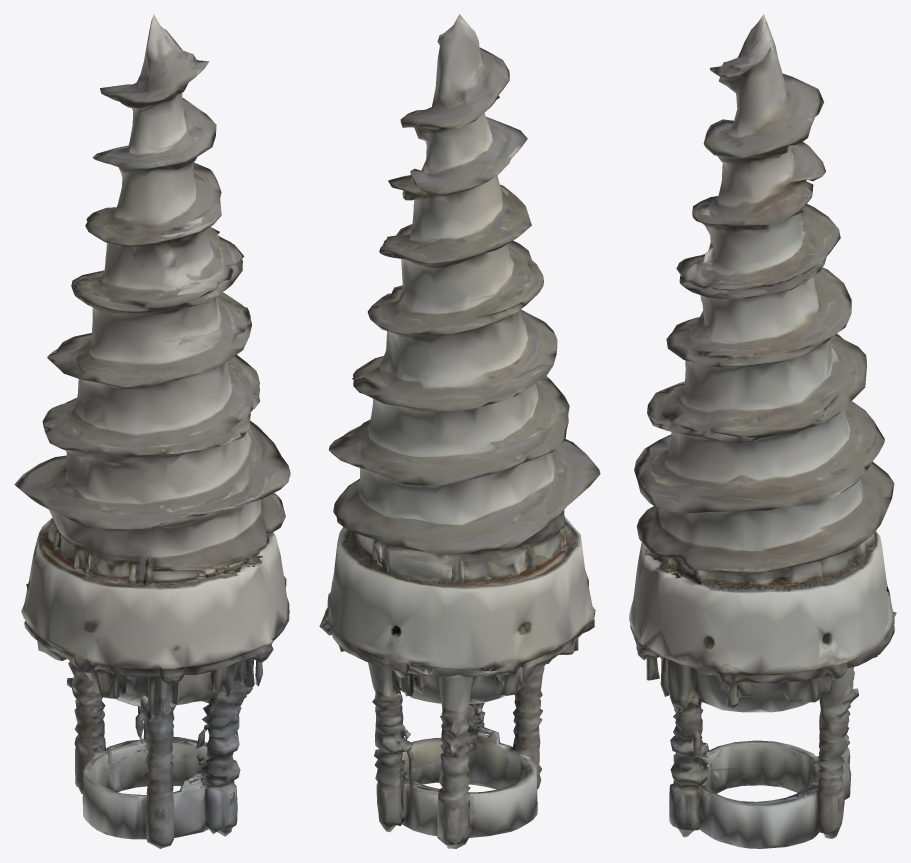
Rendered from Auger_Mechanism_Desig_0801080814_texture.fbx.
3 views of the same model, side by side, from view 1: azimuth 30°, elevation 25°; view 2: azimuth 150°, elevation 25°; view 3: azimuth 270°, elevation 25° (orthographic).
Visible parts, largest first — view 1: Mesh1.0; view 2: Mesh1.0; view 3: Mesh1.0.
Boxes of the visible parts, x1,y1,x2,y2 form: Mesh1.0: (14,14,290,848); Mesh1.0: (319,14,600,848); Mesh1.0: (629,14,896,848).
Size of the model in its own units: 58.92 by 198 by 59.55.
1 material, 1 textured.
